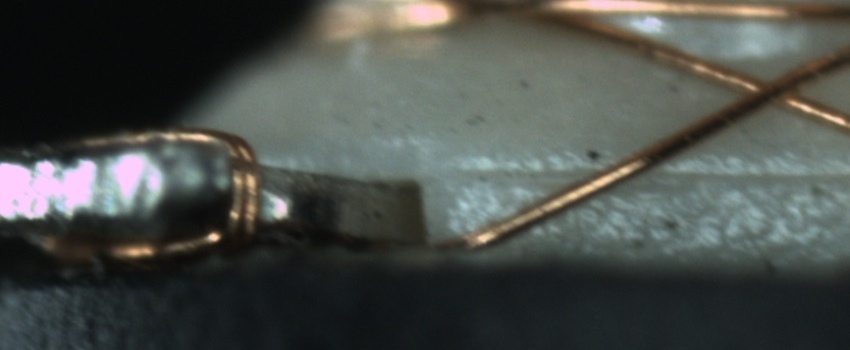CL: (721, 61, 817, 117)
DL: (461, 151, 849, 199)
TE: (22, 114, 270, 265)
